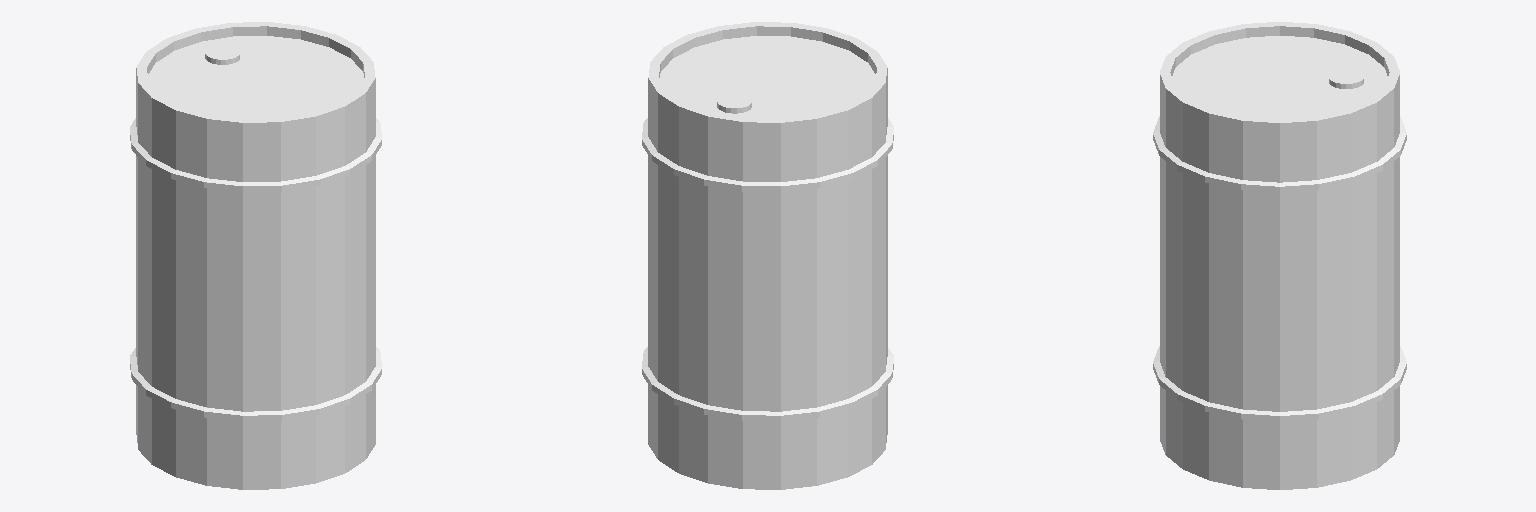
Rendered from MetalBarrel.Obj.
The picture shows the model from 3 angles: view 1: azimuth 30°, elevation 25°; view 2: azimuth 150°, elevation 25°; view 3: azimuth 270°, elevation 25°; orthographic projection.
Visible parts, largest first — view 1: metalBarrelMain, metalBarrelLid; view 2: metalBarrelMain, metalBarrelLid; view 3: metalBarrelMain, metalBarrelLid.
Part boxes in pixels (x1,y1,x2,y2): metalBarrelMain: (130, 22, 381, 489); metalBarrelLid: (205, 45, 239, 64); metalBarrelMain: (642, 22, 893, 489); metalBarrelLid: (717, 94, 751, 113); metalBarrelMain: (1153, 22, 1406, 489); metalBarrelLid: (1329, 69, 1363, 88).
Size of the model in its own units: 36.8 by 58.64 by 36.8.